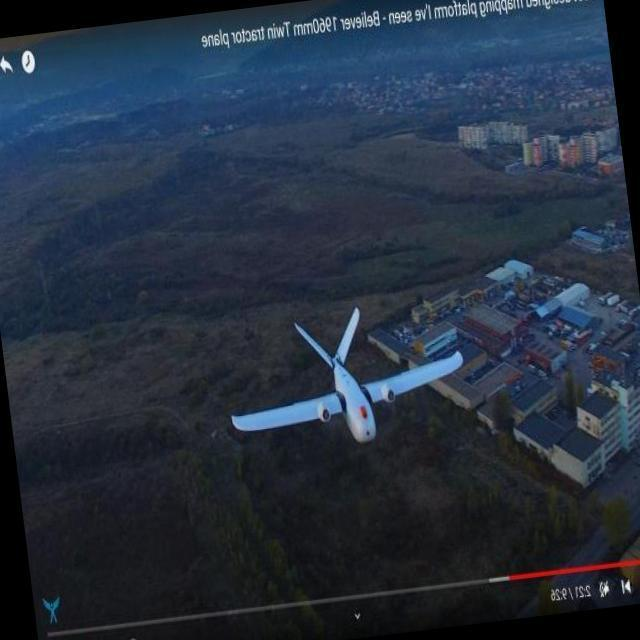iha: (229, 277, 473, 472)
